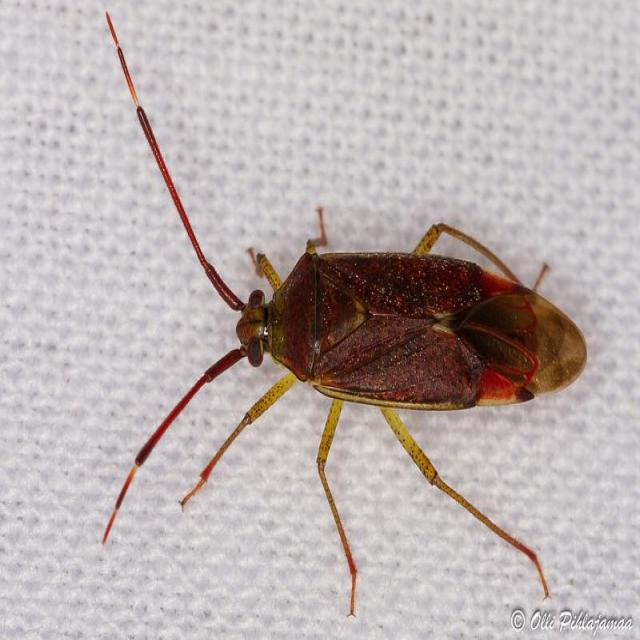Miridae-Adult-: (84, 6, 593, 602)
